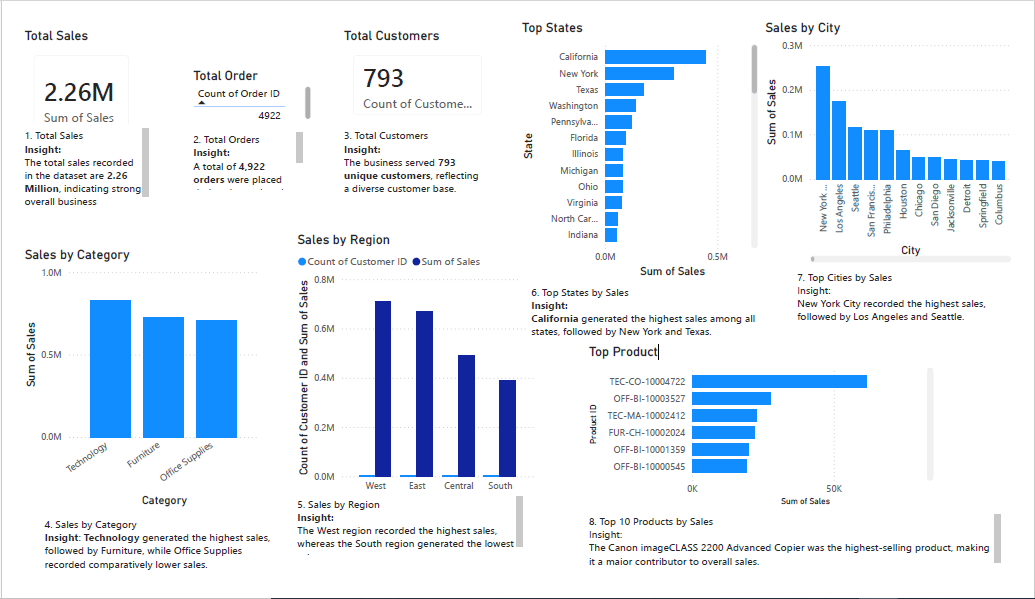

The dashboard page shown, as its layout file describes it:
{"tool":"powerbi","page":{"name":"Sales Dashboard1 ","canvas":[1280,720],"ordinal":0},"visuals":[{"type":"cardVisual","title":"Total Sales","fields":{"Data":["Sum(clean_superstore.Sales)"]},"box":[9.5,0,310.5,346.5],"z":0},{"type":"cardVisual","title":"Total Orders","fields":{"Rows":["clean_superstore.Order ID"]},"box":[0,359.8,310.5,338.9],"z":1000},{"type":"tableEx","fields":{"Values":["clean_superstore.Order ID"]},"box":[295.4,0,312.4,359.8],"z":2000},{"type":"cardVisual","title":"Total Customers","fields":{"Rows":["clean_superstore.Customer ID"]},"box":[617,0,312,360],"z":3000},{"type":"clusteredColumnChart","title":"Sales by Region","fields":{"Y":["Count(clean_superstore.Customer ID)","Sum(clean_superstore.Sales)"],"Category":["clean_superstore.Region"]},"box":[967.6,350.3,312.4,359.8],"z":4000},{"type":"slicer","title":"Customer","fields":{"Values":["clean_superstore.Customer Name"]},"box":[311,360,296,339],"z":5000},{"type":"clusteredColumnChart","title":"Sales by Category","fields":{"Category":["clean_superstore.Category"],"Y":["Sum(clean_superstore.Sales)"]},"box":[617,360,312,339],"z":6000},{"type":"barChart","title":"Top States","fields":{"Category":["clean_superstore.State"],"Y":["Sum(clean_superstore.Sales)"]},"box":[968,0,312,350],"z":7000}]}

Visuals, with their boxes in screenshot pixels (x1, y1, x2, y2), scaled from the page's 1280x720 canvas onto the 1035x599 screenshot:
"Total Sales" cardVisual: l=8, t=0, r=259, b=288
"Total Orders" cardVisual: l=0, t=299, r=251, b=581
tableEx - clean_superstore.Order ID: l=239, t=0, r=491, b=299
"Total Customers" cardVisual: l=499, t=0, r=751, b=300
"Sales by Region" clusteredColumnChart: l=782, t=291, r=1034, b=591
"Customer" slicer: l=251, t=300, r=491, b=582
"Sales by Category" clusteredColumnChart: l=499, t=300, r=751, b=582
"Top States" barChart: l=783, t=0, r=1034, b=291
